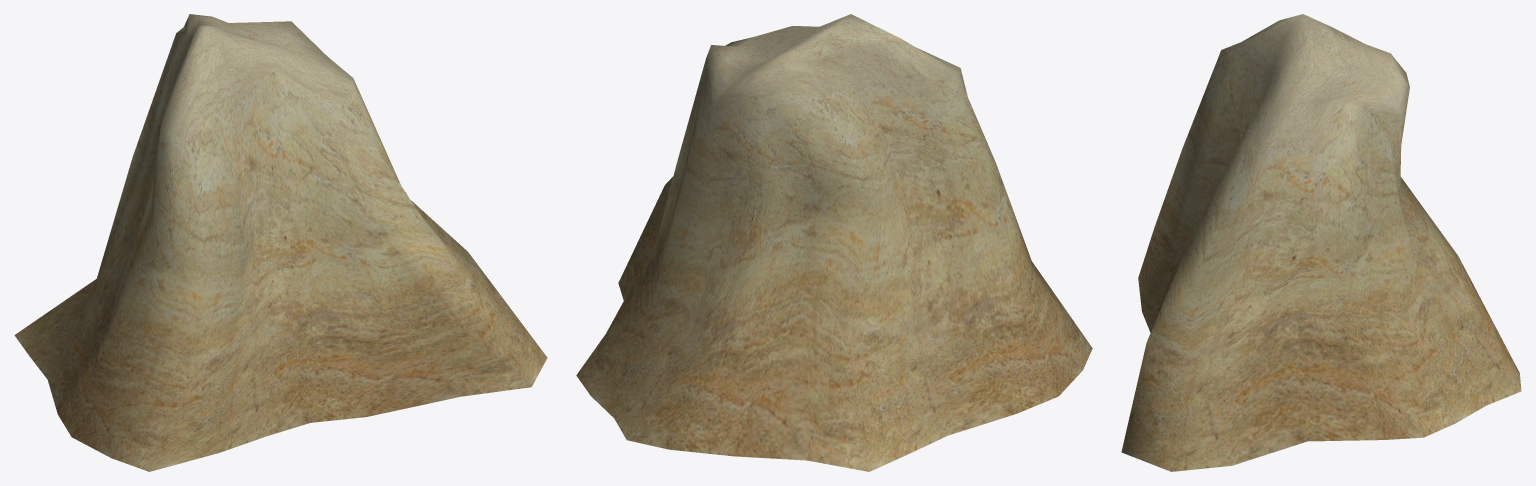
The model's file is rock_beach_spike_l1.fbx.
3 renders of one model, left to right at view 1: azimuth 30°, elevation 25°; view 2: azimuth 150°, elevation 25°; view 3: azimuth 270°, elevation 25°, orthographic. The views are drawn at different scales.
Parts seen in each view (by area): view 1: mesh_node; view 2: mesh_node; view 3: mesh_node.
Boxes of the visible parts, x1,y1,x2,y2 form: mesh_node: (14, 14, 547, 471); mesh_node: (576, 14, 1092, 471); mesh_node: (1121, 14, 1521, 471).
Bounding box in the file's own units: 6.18 × 4.67 × 5.11.
